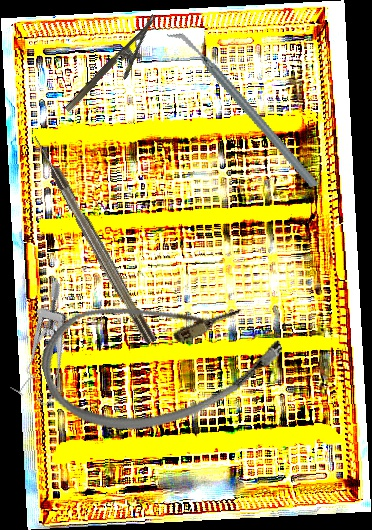Cannula: (29, 259, 294, 454)
Chopper: (166, 3, 320, 216)
Hook Surgical: (30, 132, 157, 347)
Needle Holder: (62, 14, 172, 125)
Speculum: (0, 280, 99, 408)
